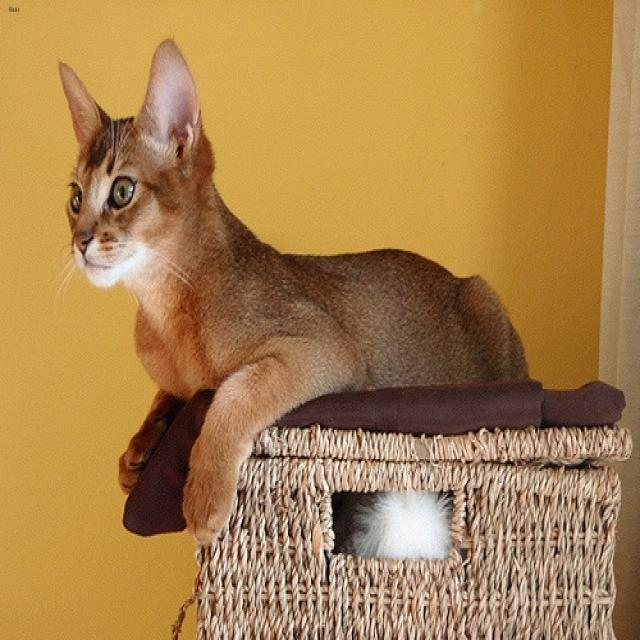Abyssinian: (58, 36, 211, 285)
